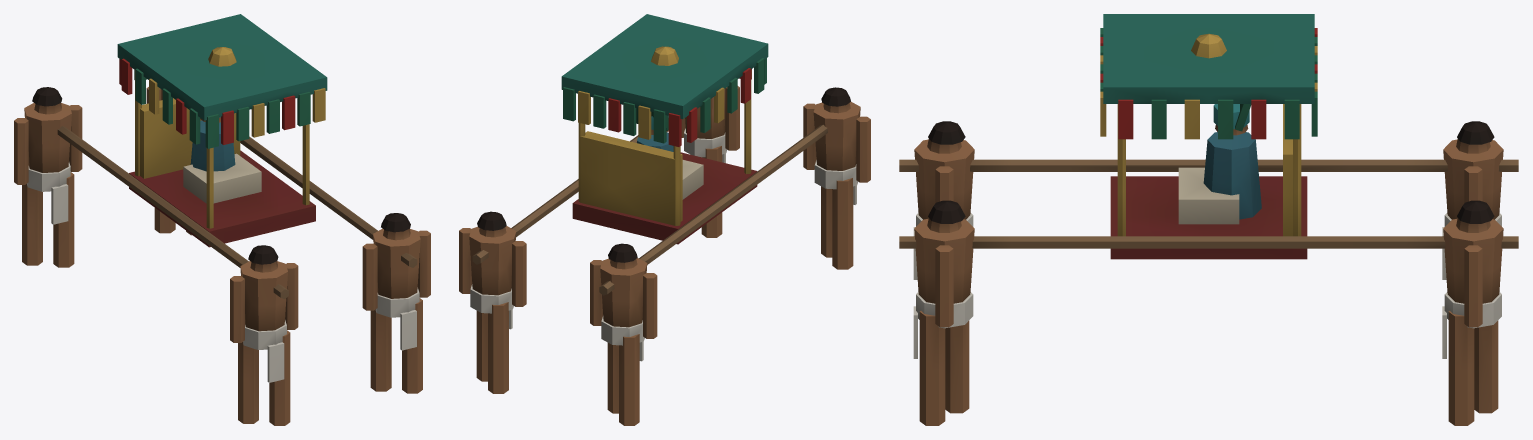
The model's file is litter.glb.
3 renders of one model, left to right at view 1: azimuth 30°, elevation 25°; view 2: azimuth 150°, elevation 25°; view 3: azimuth 270°, elevation 25°, orthographic. The views are drawn at different scales.
Parts seen in each view (by area): view 1: base; view 2: base; view 3: base.
Part boxes in pixels (left/top/right/bottom): base: left=14, top=14, right=430, bottom=425; base: left=459, top=14, right=870, bottom=425; base: left=899, top=14, right=1518, bottom=425.
Bounding box in the file's own units: 1.84 × 2.49 × 4.1.
